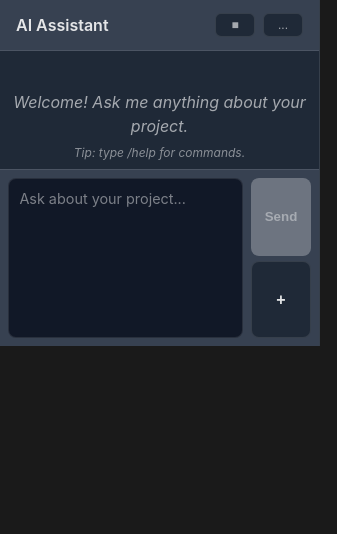
it: ChatPanel - Autopilot Features › Autopilot messaging and controls › surfaces API failures when sending autopilot guidance
Type "Trigger autopilot session" into the text box with test id "chat-input".
click(126, 258); type("Trigger autopilot session")  # box [8, 178, 243, 338]
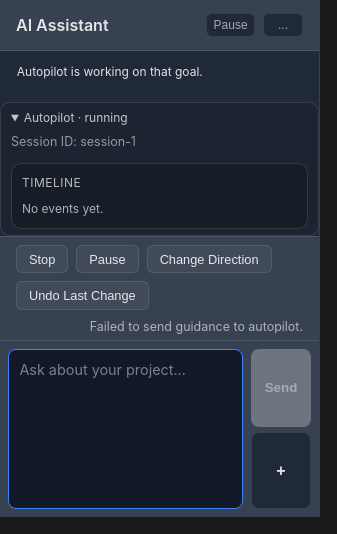
expect the text with test id "autopilot-status-note" reads "Failed to send guidance to autopilot.": met, box [90, 319, 303, 334]
